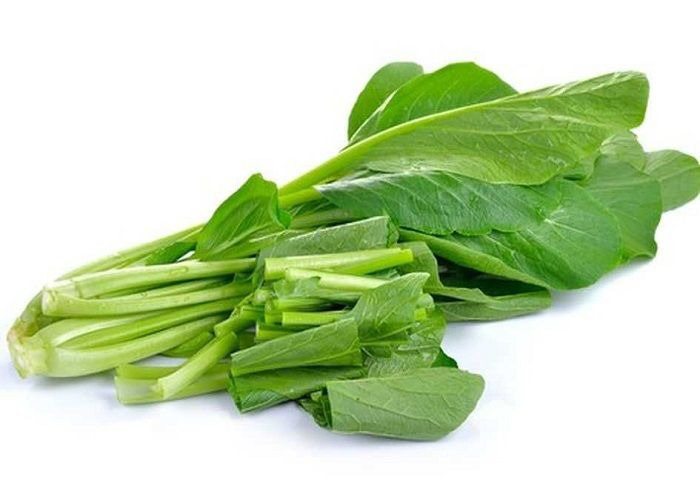Sawi: (19, 53, 684, 443)
